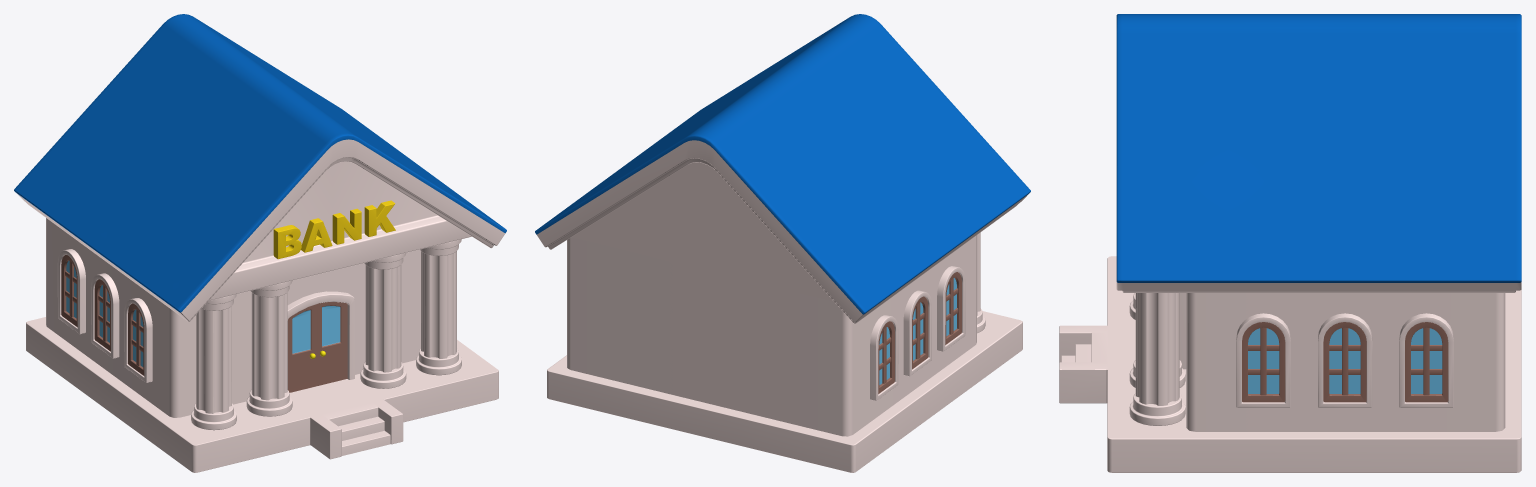
The model's file is Public_1_Bank_1.glb.
3 views of the same model, side by side, from view 1: azimuth 30°, elevation 25°; view 2: azimuth 150°, elevation 25°; view 3: azimuth 270°, elevation 25° (orthographic). The views are drawn at different scales.
Visible parts, largest first — view 1: Public_1_Bank_1; view 2: Public_1_Bank_1; view 3: Public_1_Bank_1.
Part boxes in pixels (bbox=[...]): Public_1_Bank_1: bbox=[14, 14, 506, 472]; Public_1_Bank_1: bbox=[535, 14, 1030, 472]; Public_1_Bank_1: bbox=[1059, 14, 1521, 472].
Size of the model in its own units: 12.12 by 10.51 by 12.09.
1 material, 1 textured.
